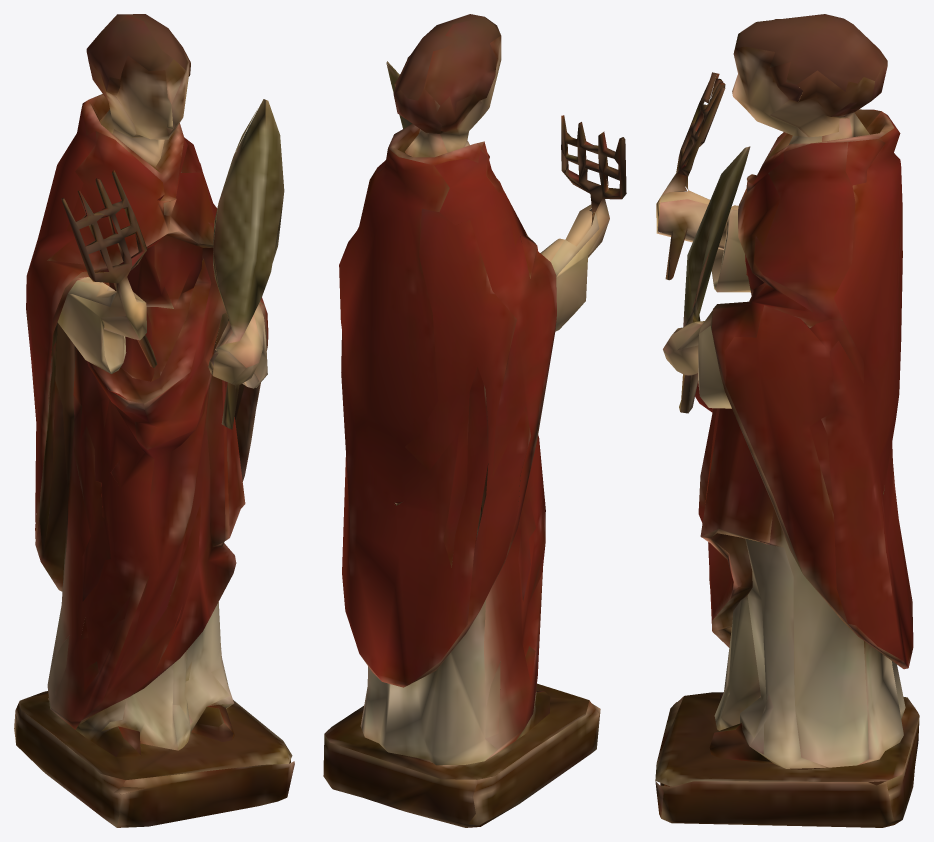
Rendered from san_lorenzo.movil.glb.
3 views of the same model, side by side, from view 1: azimuth 30°, elevation 25°; view 2: azimuth 150°, elevation 25°; view 3: azimuth 270°, elevation 25° (orthographic). The views are drawn at different scales.
Parts seen in each view (by area): view 1: geometry_0; view 2: geometry_0; view 3: geometry_0.
Part boxes in pixels (x1,y1,x2,y2): geometry_0: (14, 14, 294, 827); geometry_0: (323, 14, 626, 827); geometry_0: (655, 14, 919, 827).
Bounding box in the file's own units: 0.6 × 1.9 × 0.5906.
1 material, 1 textured.
